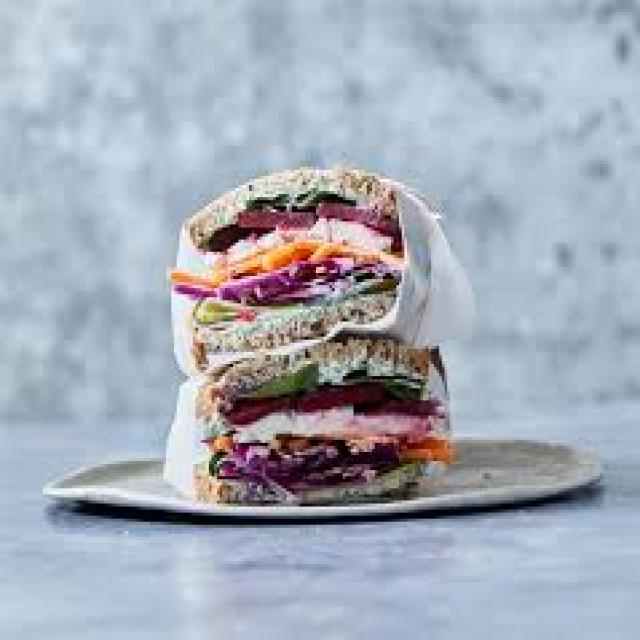Sandwich: (190, 187, 475, 513)
